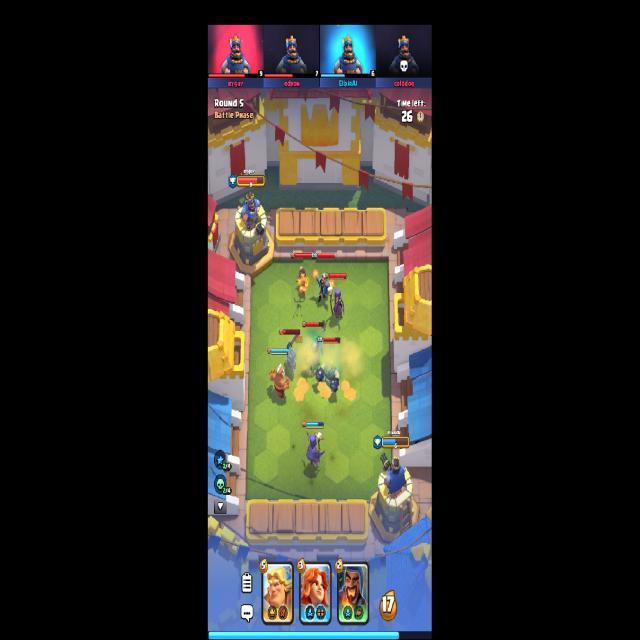card_golden_knight: (260, 562, 294, 626)
card_valkyrie: (299, 561, 332, 626)
card_wizard: (338, 560, 368, 626)
mega_knight: (316, 360, 341, 394)
mini_pekka: (284, 332, 302, 371)
monk: (270, 364, 290, 397)
pekka: (304, 337, 324, 372)
princess: (295, 268, 310, 298)
witch: (305, 430, 324, 471), (328, 286, 346, 322)
wizard: (314, 270, 332, 306)
